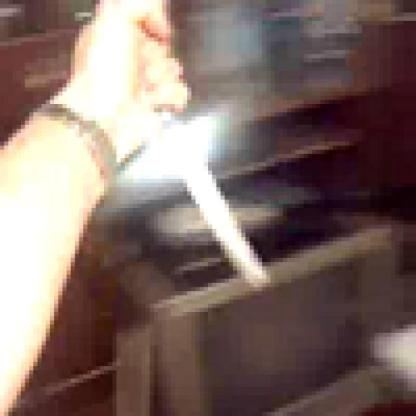Knife: (96, 13, 270, 296)
